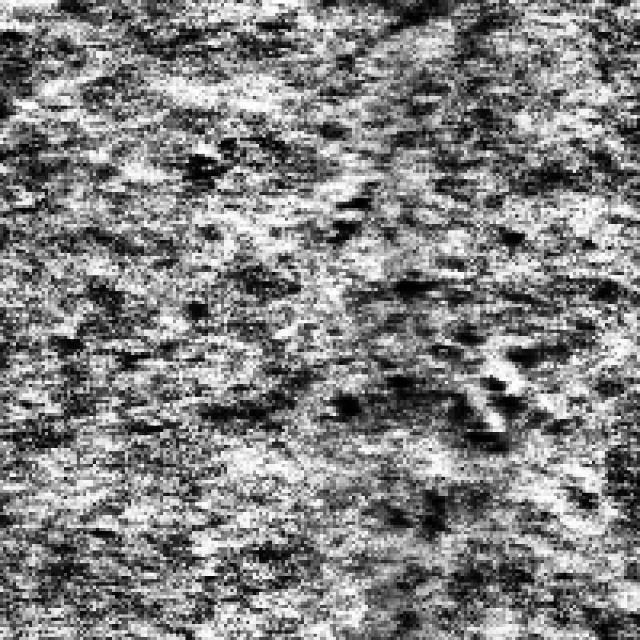Crazing: (320, 256, 576, 448), (362, 470, 458, 636)
